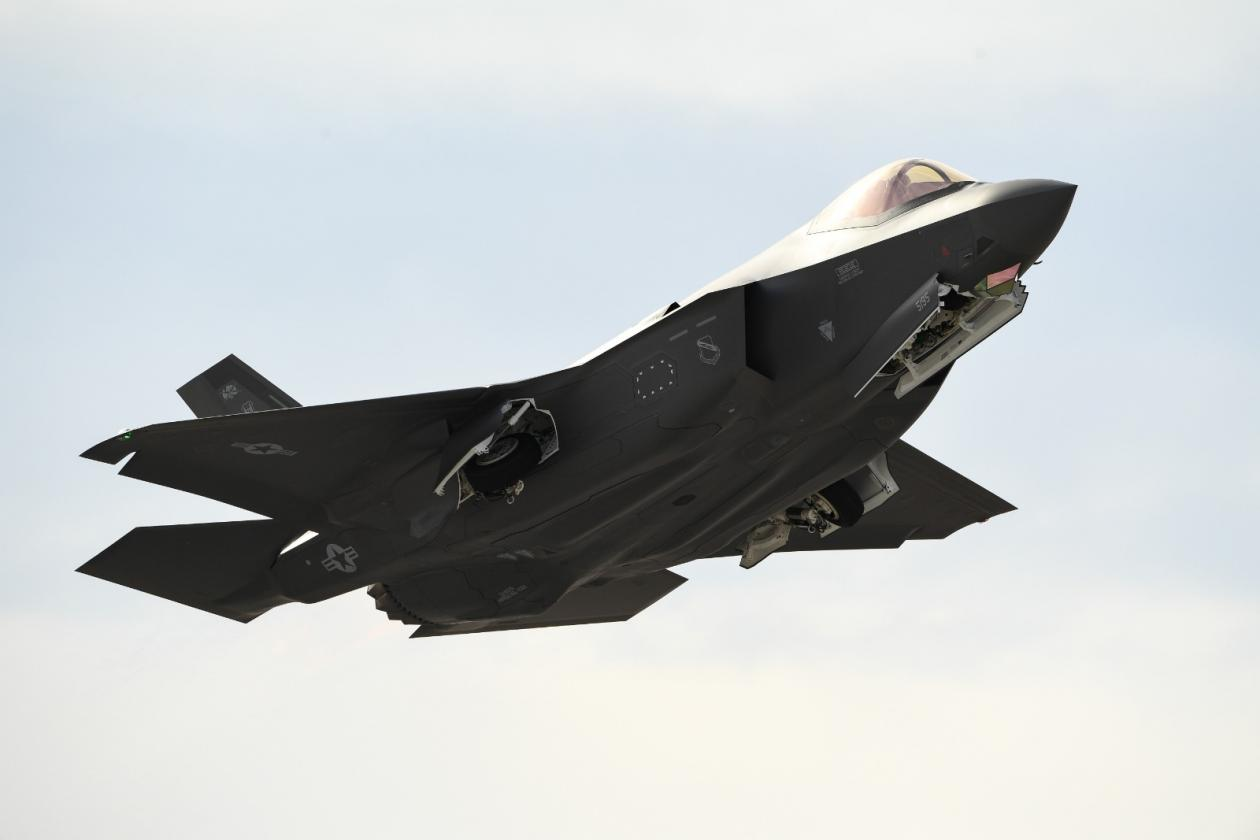F-35 Lightning: (92, 84, 1122, 728)
